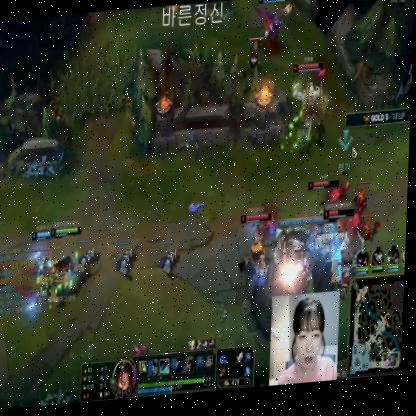streamer: (281, 300, 341, 390)
